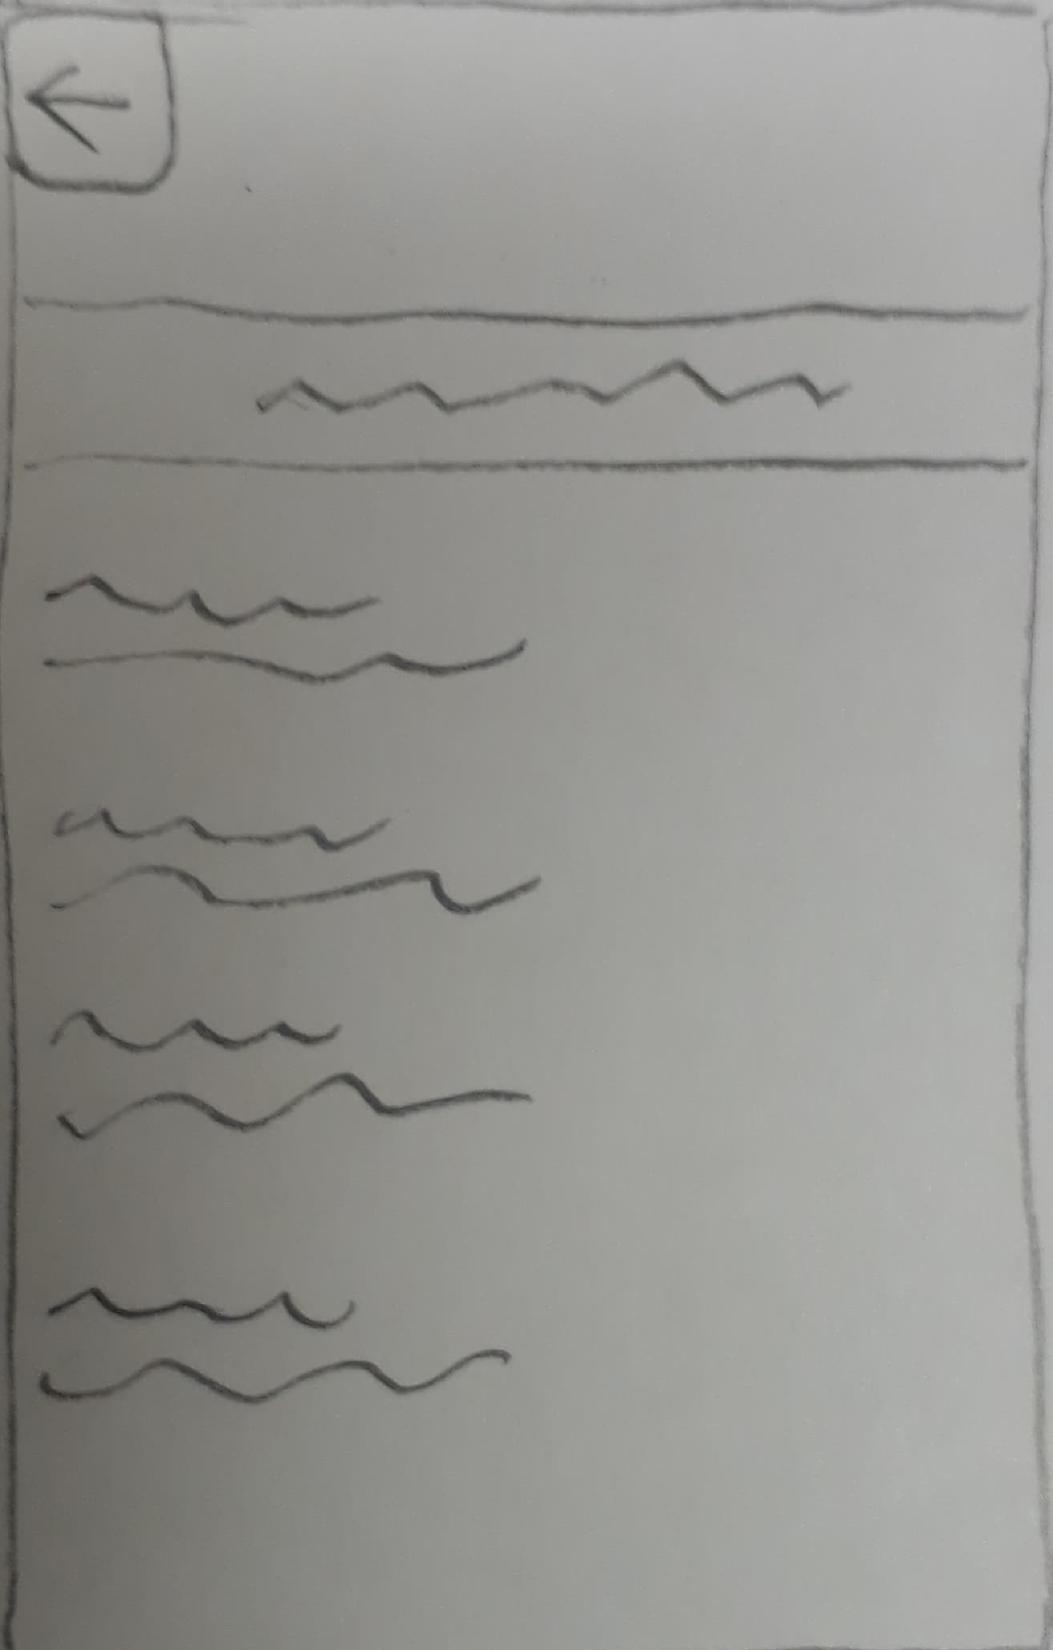Button: (1, 10, 177, 196)
Label: (49, 1009, 535, 1147), (49, 800, 553, 931), (42, 1283, 508, 1419), (44, 568, 533, 690), (242, 352, 868, 427)
Screen: (0, 1, 1049, 1645)
